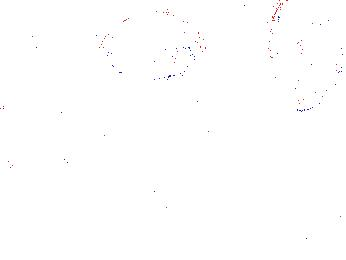moon jellyfish: (269, 1, 343, 111), (99, 11, 206, 78), (14, 1, 136, 43), (1, 4, 38, 98)
